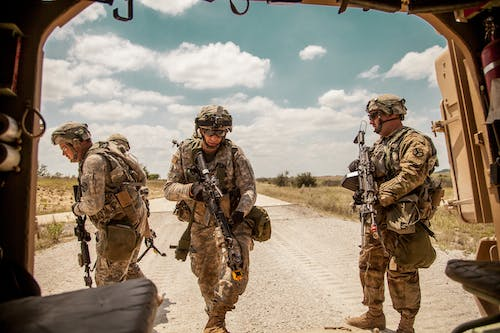gun: (192, 148, 243, 281), (352, 118, 380, 252), (71, 182, 93, 289)
